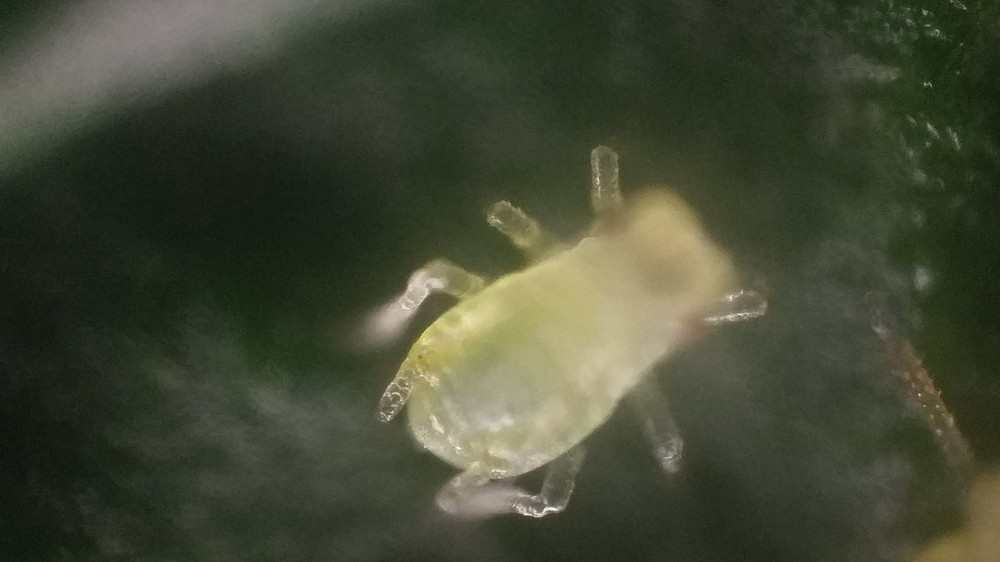Pulgon: (342, 140, 800, 535)
